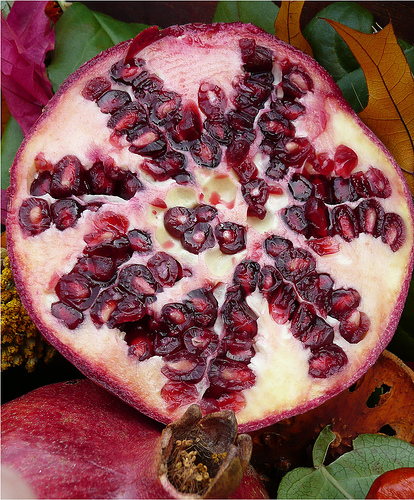pomogranate: (11, 22, 412, 432), (206, 355, 256, 393), (47, 153, 85, 200)
